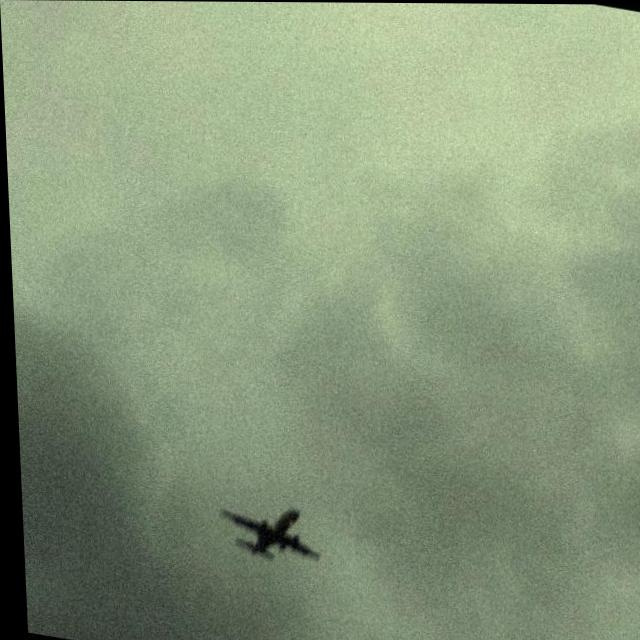airplane: (210, 492, 320, 567)
